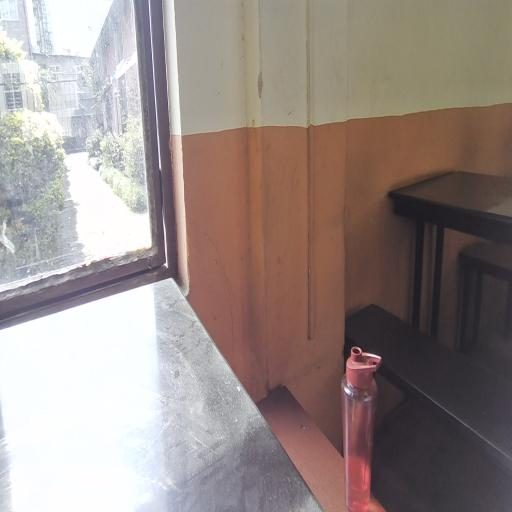Bottle: (335, 346, 379, 512)
